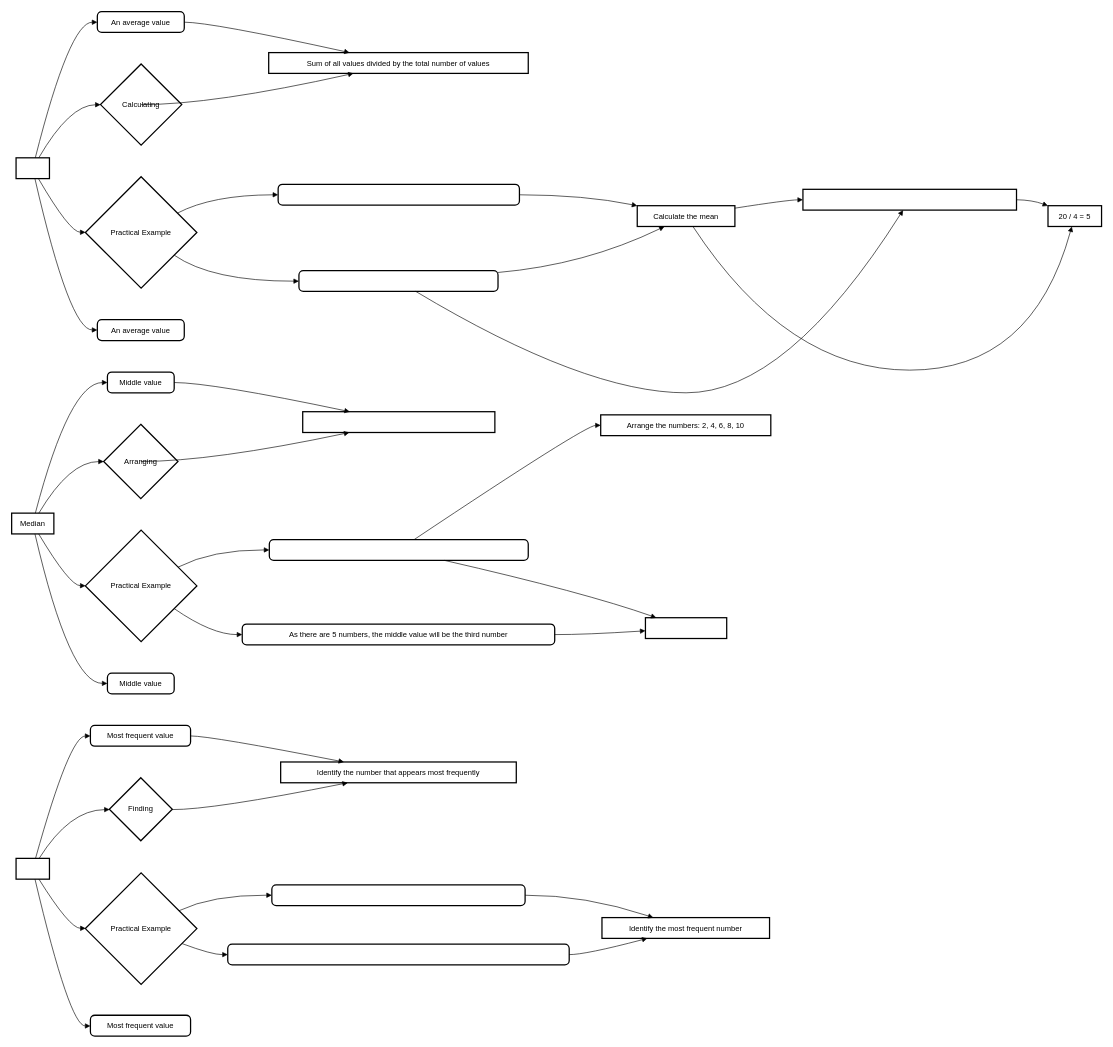
The diagram is 1113 pixels wide and 1047 high, and some of its shapes have lost their labels. The centre of each missing label's shape, as x and y in pixels:
"Add up all the numbers: 2 + 4 + 6 + 8 = 20" goes at point (398, 281).
"Divide the sum by the total number of values" goes at point (909, 199).
"Mean" goes at point (32, 168).
"Mode" goes at point (32, 868).
"Ordering numbers from least to greatest" goes at point (398, 422).
"Suppose you have the following numbers: 2, 4, 6, 4, 8" goes at point (398, 895).
"Suppose you have the following numbers: 2, 4, 6, 8" goes at point (398, 194).
"Suppose you have the following numbers: 2, 4, 6, 8, 10" goes at point (398, 550).
"The median is 6" goes at point (685, 628).
"The number 4 appears twice, while the other numbers only appears once" goes at point (398, 954).
